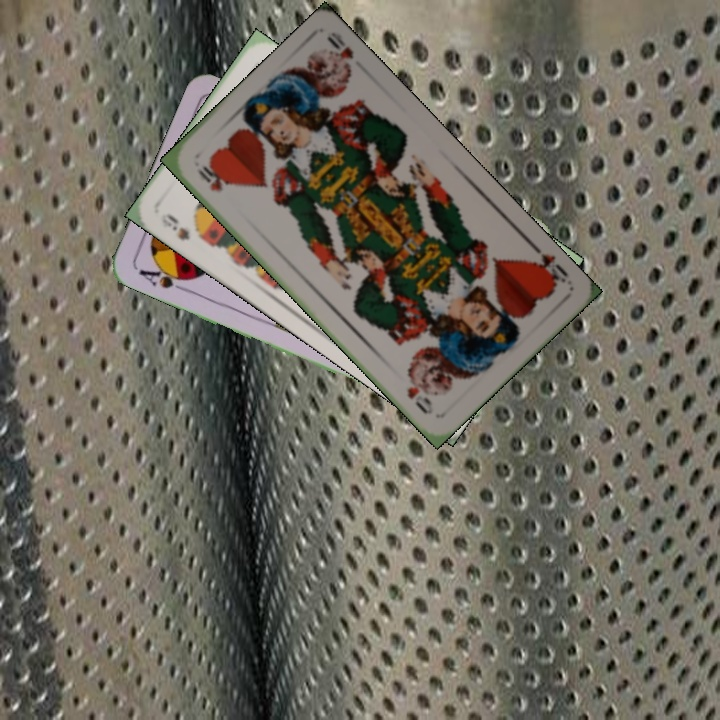HO: (524, 239, 574, 290), (193, 161, 230, 194)
S9: (156, 209, 209, 245)
SA: (135, 260, 193, 295)
